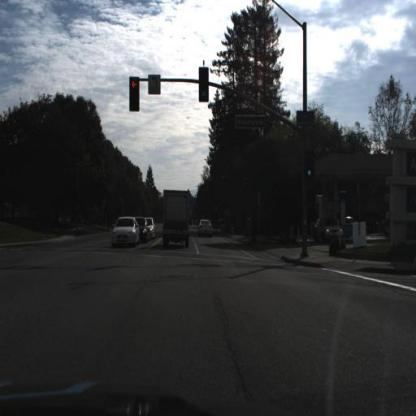car: (111, 215, 142, 249), (314, 216, 345, 242), (195, 216, 216, 241), (345, 213, 362, 241), (140, 215, 151, 248)
trafficLight-Green: (201, 70, 210, 103), (307, 157, 313, 180)
trafficLight-RedLeft: (130, 78, 139, 112)
truck: (160, 187, 193, 249)
